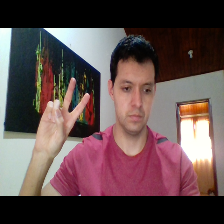KP: (32, 72, 93, 159)
